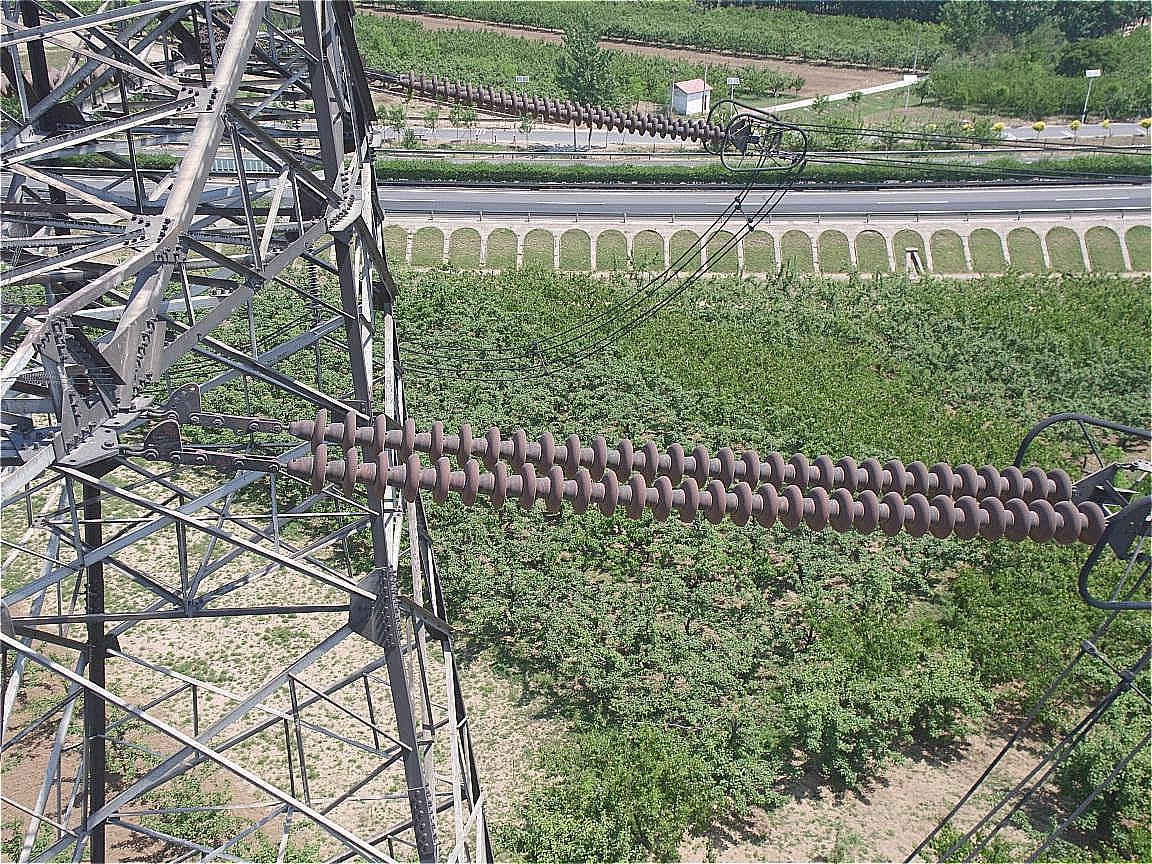insultor1: (304, 407, 1107, 545), (404, 66, 726, 143)
